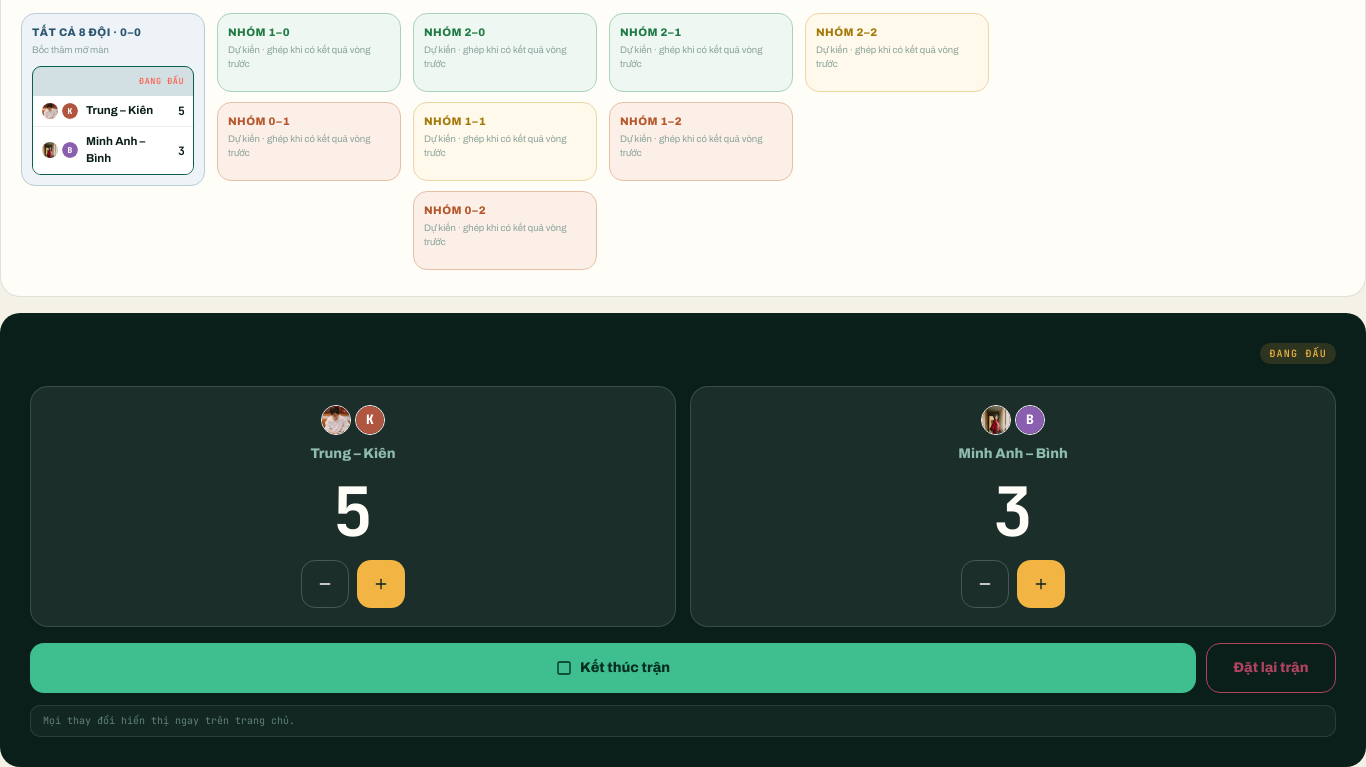
Test: RefereeScoringPanel (characterization: optimistic + rollback) › optimistically increments the score and writes the update keyed by code
This screenshot has width=1366, height=767.
(page scrolled)
Expected: the text with test id "ref-score-a" reads "5", top-left (333, 466), bottom-right (373, 556)
Click the button named "Tăng điểm đội A" at (381, 584), box top-left (357, 560), bottom-right (405, 608)
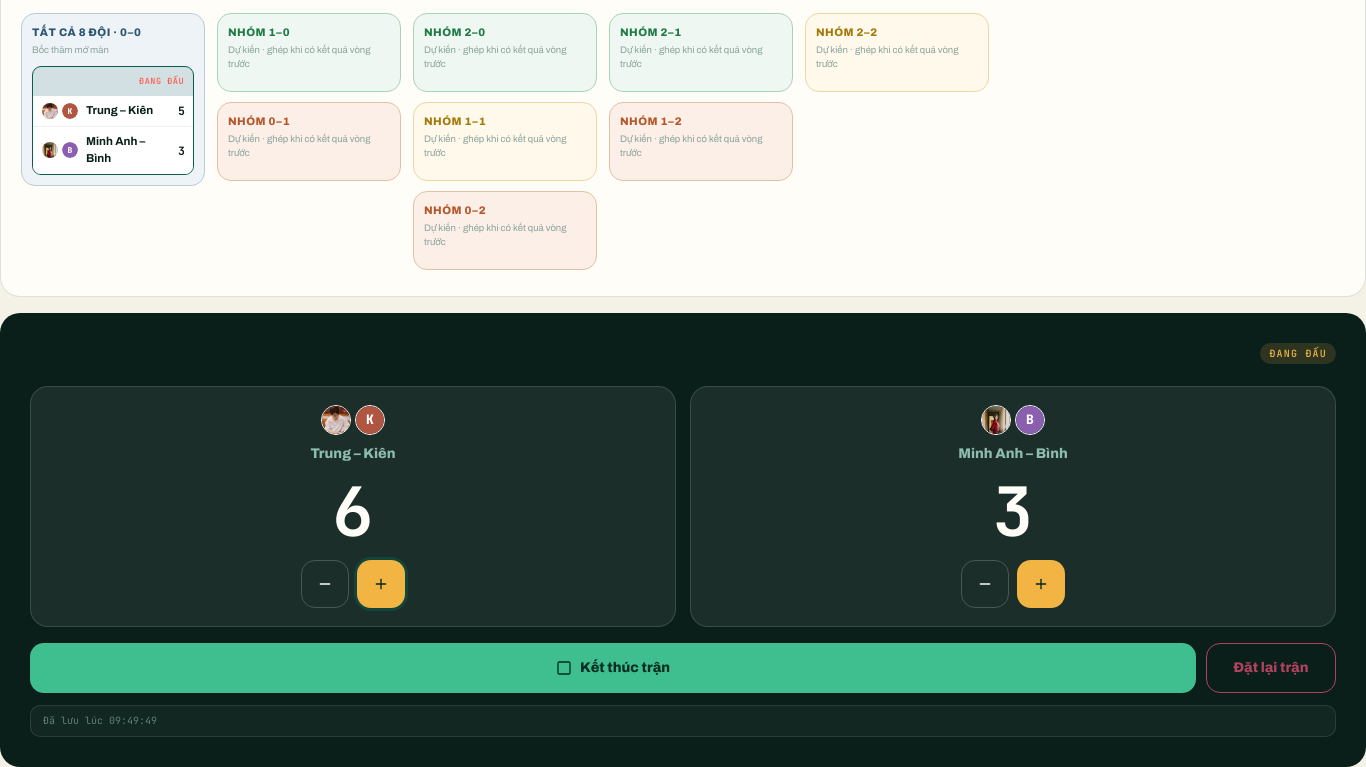
Now the text with test id "ref-score-a" reads "6", box top-left (333, 466), bottom-right (373, 556)
